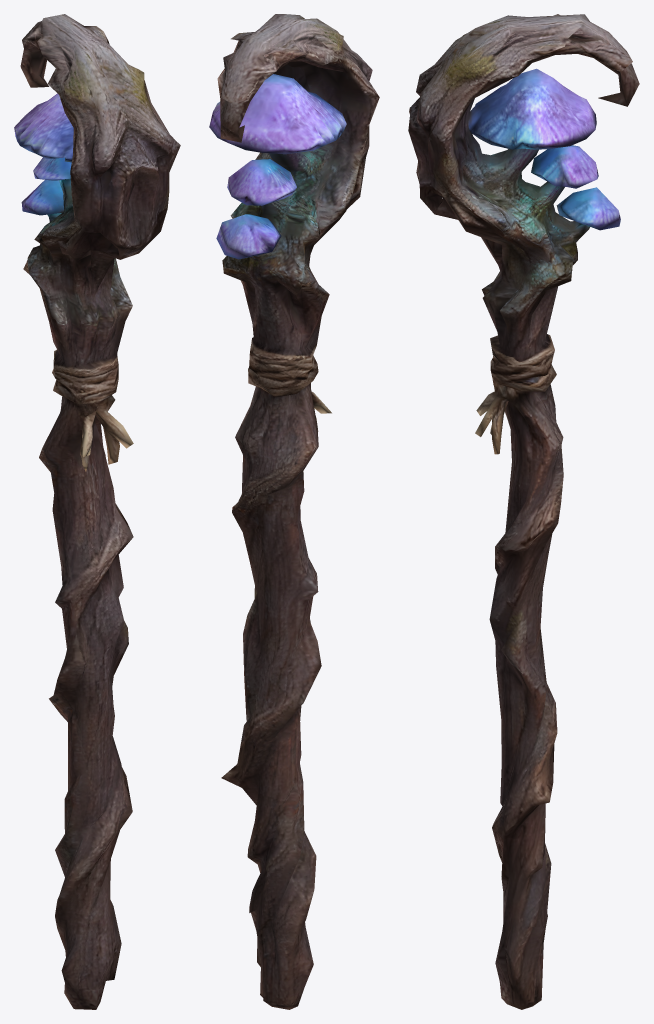
The model's file is witch_staff_source.glb.
The picture shows the model from 3 angles, left to right: view 1: azimuth 30°, elevation 25°; view 2: azimuth 150°, elevation 25°; view 3: azimuth 270°, elevation 25°; orthographic projection.
Parts seen in each view (by area): view 1: tripo_node_e94eb801-4d65-4668-b35e-e54f0d3e7b98; view 2: tripo_node_e94eb801-4d65-4668-b35e-e54f0d3e7b98; view 3: tripo_node_e94eb801-4d65-4668-b35e-e54f0d3e7b98.
Boxes of the visible parts, box(x1,y1,x2,y2) form: tripo_node_e94eb801-4d65-4668-b35e-e54f0d3e7b98: box(14, 14, 180, 1009); tripo_node_e94eb801-4d65-4668-b35e-e54f0d3e7b98: box(209, 14, 379, 1009); tripo_node_e94eb801-4d65-4668-b35e-e54f0d3e7b98: box(408, 14, 639, 1009).
Bounding box in the file's own units: 0.1237 × 0.9797 × 0.2085.
Materials: 1 (1 with a texture image).
